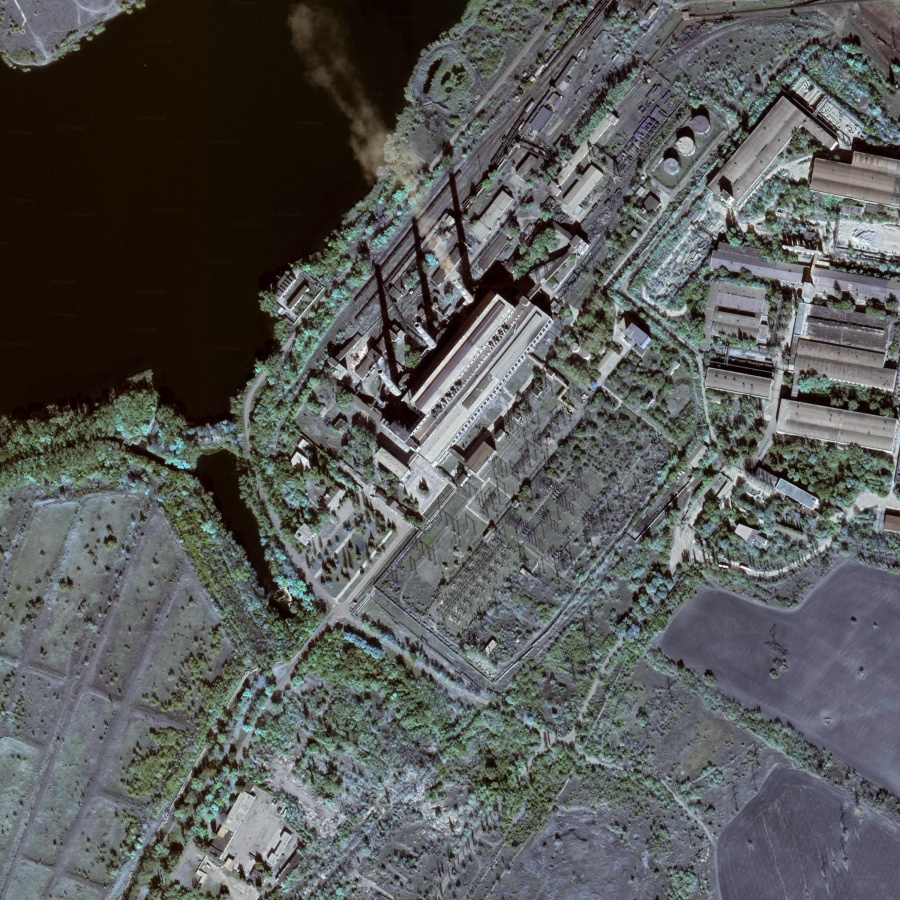PowerPlant: (337, 92, 702, 448)
